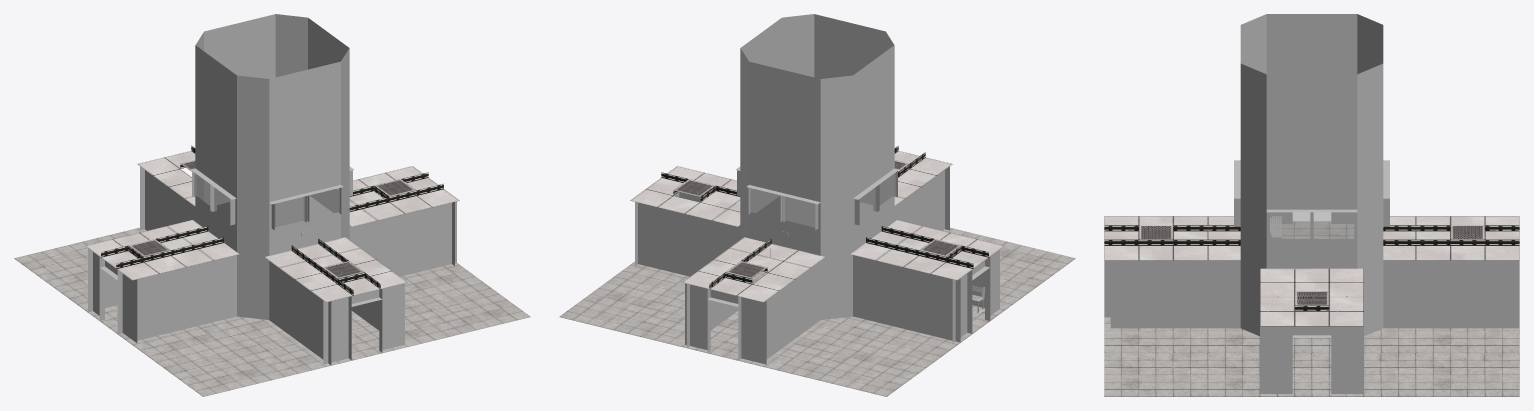
The model's file is room4z3_opt.fbx.
3 views of the same model, side by side, from view 1: azimuth 30°, elevation 25°; view 2: azimuth 150°, elevation 25°; view 3: azimuth 270°, elevation 25° (orthographic). The views are drawn at different scales.
Visible parts, largest first — view 1: Scene_Root; view 2: Scene_Root; view 3: Scene_Root.
Boxes of the visible parts, x1,y1,x2,y2 form: Scene_Root: (14,14,530,396); Scene_Root: (559,14,1075,396); Scene_Root: (1104,14,1519,396).
Size of the model in its own units: 1485 by 1045 by 1485.
